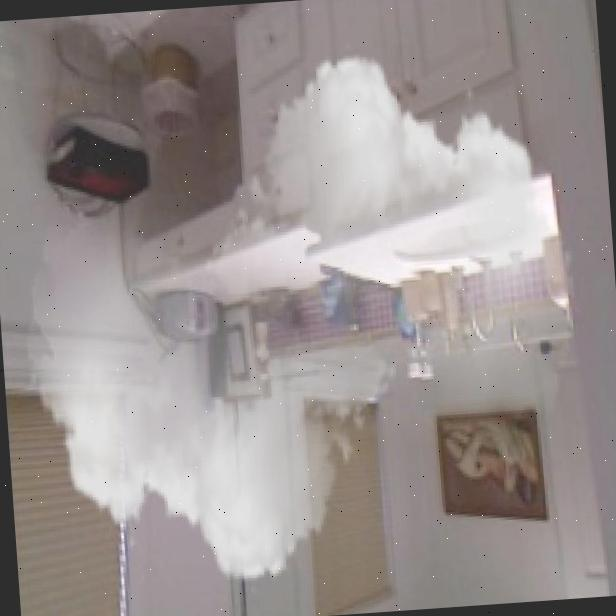smoke: (7, 23, 593, 612)
